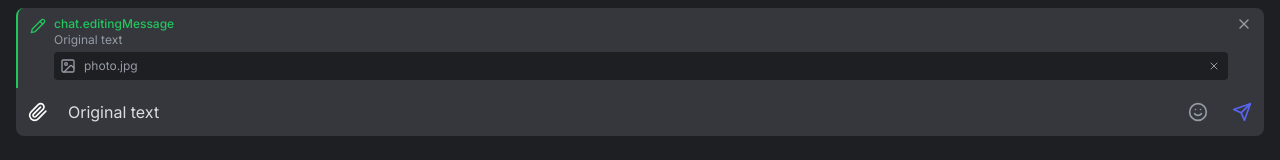
Test: MessageComposer › edit mode with attachments › should hide attachment preview after removal
Expected: the text "photo.jpg" is shown, [84,58,138,73]
# Click remove
Click the button named "chat.removeAttachment" at (1214, 66), box [1206,58,1222,74]
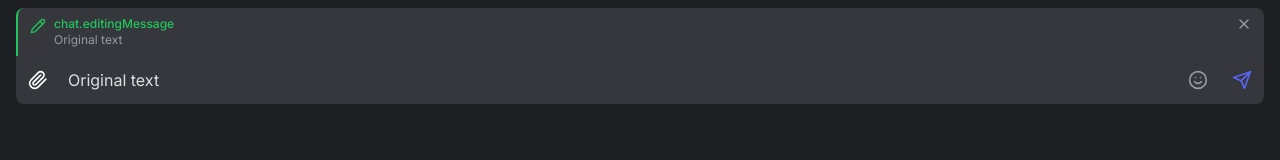
Result: the text "photo.jpg" is gone
